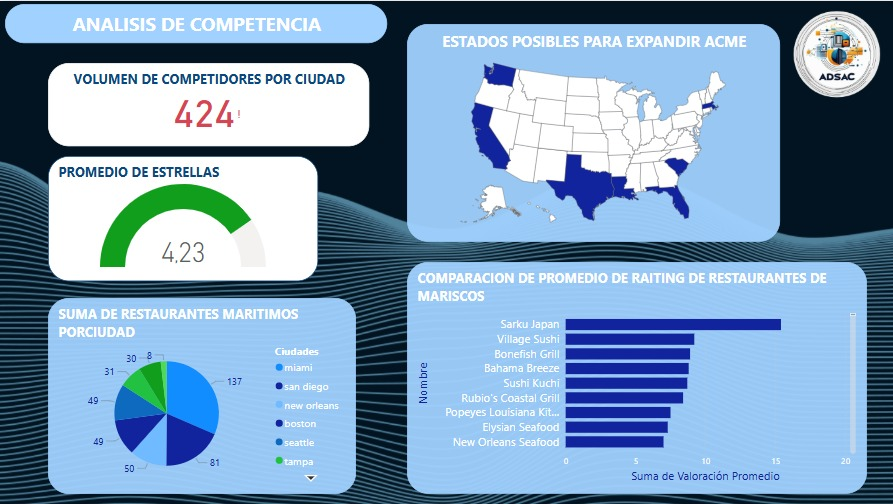

The page's visual inventory and layout, read from the dashboard file:
{"tool":"powerbi","page":{"name":"Página 3","canvas":[1280,720],"ordinal":1},"visuals":[{"type":"shapeMap","title":"ESTADOS POSIBLES PARA EXPANDIR ACME","fields":{"Category":["Sitios.state"]},"box":[581.4,32.9,532.9,311.4],"z":0},{"type":"clusteredBarChart","title":"COMPARACION DE PROMEDIO DE RAITING DE RESTAURANTES DE MARISCOS","fields":{"Y":["Sum(Sitios.avg_rating)"],"Category":["Sitios.name"]},"box":[581.4,372.9,657.1,331.4],"z":1000},{"type":"textbox","title":"ANALISIS DE COMPETENCIA","box":[7.1,4.3,545.7,55.7],"z":2000},{"type":"pieChart","title":"SUMA DE RESTAURANTES MARITIMOS PORCIUDAD","fields":{"Category":["Sitios.city"],"Y":["Sum(Sitios.is_seafood)"]},"box":[68.6,424.3,440,280],"z":3000},{"type":"kpi","title":"CANTIDAD DE COMPETIDORES POR CIUDAD","fields":{"Indicator":["Sitios.Número de Competidores"],"TrendLine":["Sitios.is_seafood"],"Goal":["CountNonNull(Sitios.city)"]},"box":[68.6,88.6,458.6,118.6],"z":4000},{"type":"gauge","title":"PROMEDIO DE ESTRELLAS","fields":{"Y":["Sitios.Calificación Promedio Mariscos"]},"box":[68.6,221.4,385.7,178.6],"z":5000}]}

Visuals, with their boxes in screenshot pixels (x1, y1, x2, y2), scaled from the page's 1280x720 canvas onto the 893x504 screenshot:
"ESTADOS POSIBLES PARA EXPANDIR ACME" shapeMap: left=406, top=23, right=777, bottom=241
"COMPARACION DE PROMEDIO DE RAITING DE RESTAURANTES DE MARISCOS" clusteredBarChart: left=406, top=261, right=864, bottom=493
"ANALISIS DE COMPETENCIA" textbox: left=5, top=3, right=386, bottom=42
"SUMA DE RESTAURANTES MARITIMOS PORCIUDAD" pieChart: left=48, top=297, right=355, bottom=493
"CANTIDAD DE COMPETIDORES POR CIUDAD" kpi: left=48, top=62, right=368, bottom=145
"PROMEDIO DE ESTRELLAS" gauge: left=48, top=155, right=317, bottom=280
